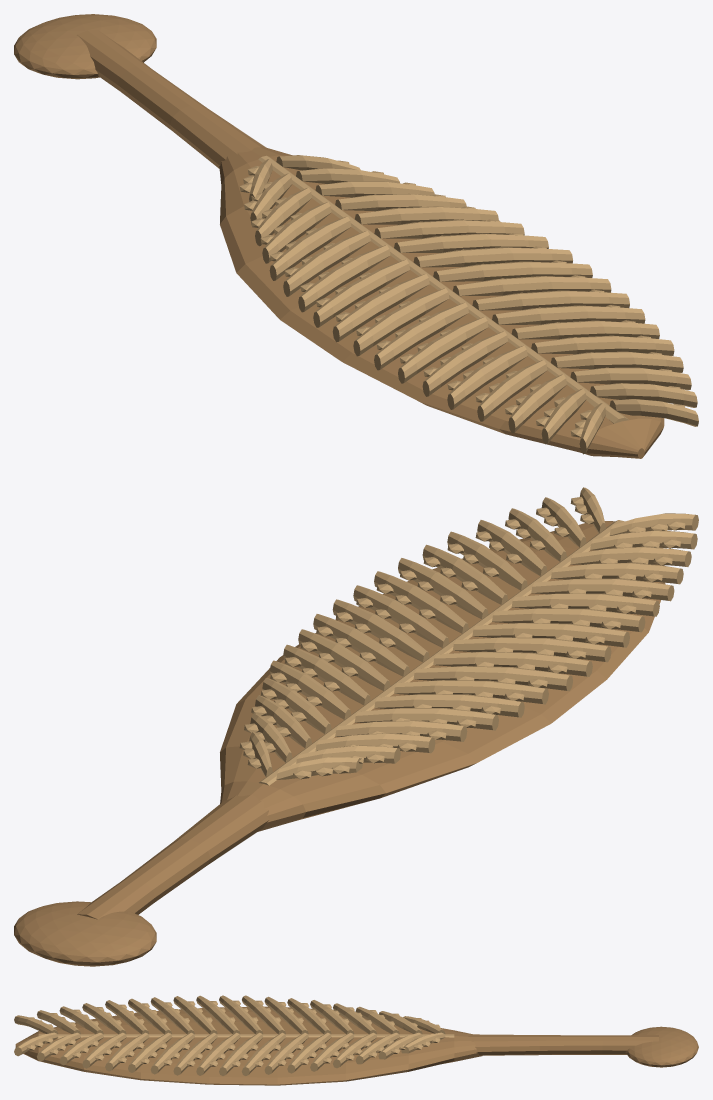
3 renders of one model, top to bottom at view 1: azimuth 30°, elevation 25°; view 2: azimuth 150°, elevation 25°; view 3: azimuth 270°, elevation 25°, orthographic. The views are drawn at different scales.
Parts seen in each view (by area): view 1: surface_ochre_relief, surface_sandstone_backing; view 2: surface_ochre_relief, surface_sandstone_backing; view 3: surface_ochre_relief, surface_sandstone_backing.
Part boxes in pixels (box(x1,y1,x2,y2)): surface_ochre_relief: box(239, 155, 698, 454); surface_sandstone_backing: box(14, 14, 664, 458); surface_ochre_relief: box(239, 487, 698, 785); surface_sandstone_backing: box(14, 521, 665, 966); surface_ochre_relief: box(14, 995, 454, 1075); surface_sandstone_backing: box(15, 1006, 698, 1085).
Size of the model in its own units: 0.16 by 0.0274 by 0.6016.
